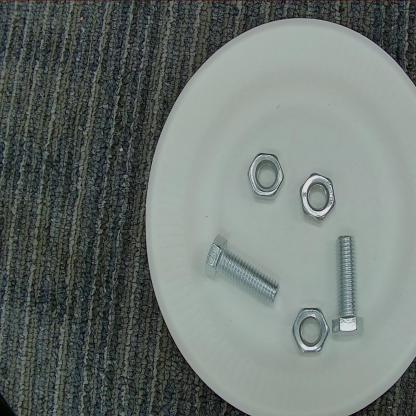FOD: (202, 230, 281, 314), (328, 229, 370, 341), (297, 166, 343, 230), (242, 148, 292, 204), (290, 305, 332, 359)
